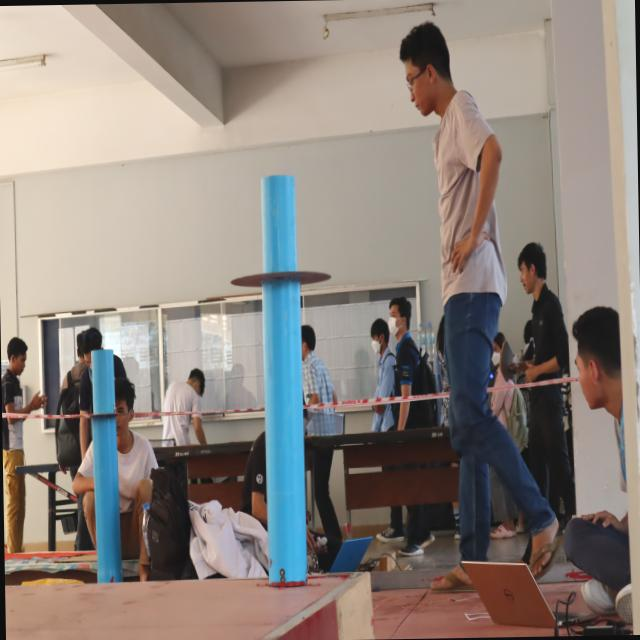pole: (224, 169, 335, 373), (66, 346, 136, 475)
